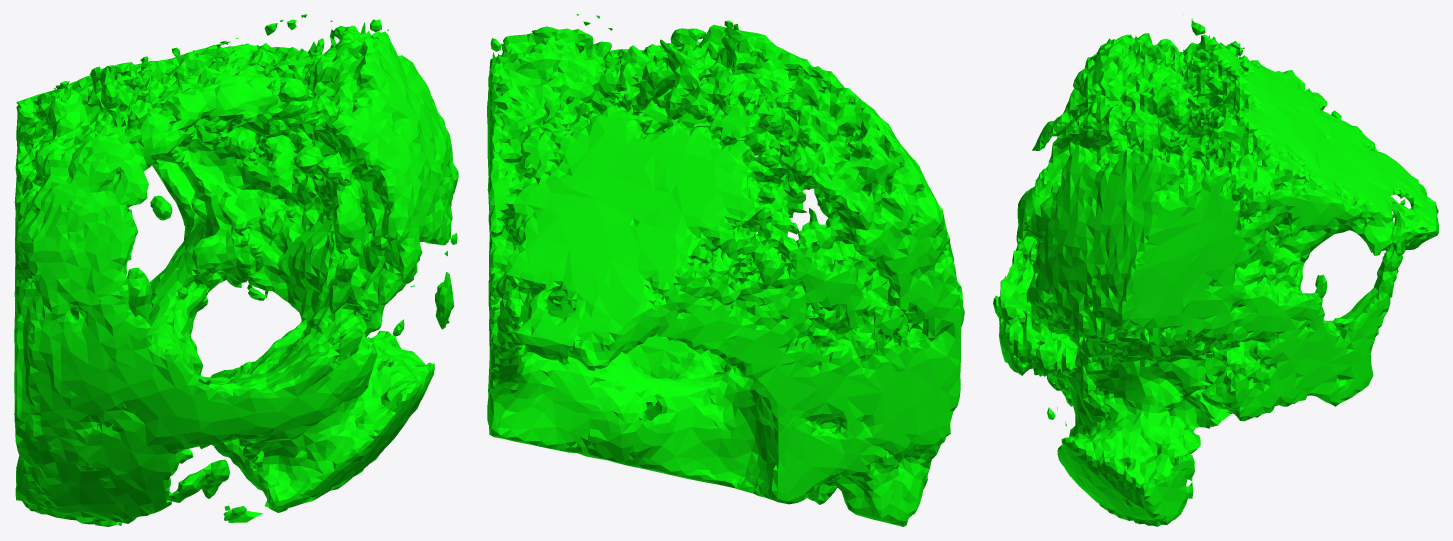
The model's file is B939XXXX-1_base_31.obj.
3 renders of one model, left to right at view 1: azimuth 30°, elevation 25°; view 2: azimuth 150°, elevation 25°; view 3: azimuth 270°, elevation 25°, orthographic. The views are drawn at different scales.
Parts seen in each view (by area): view 1: 31_base; view 2: 31_base; view 3: 31_base.
Boxes of the visible parts, box(x1,y1,x2,y2) form: 31_base: box(14, 14, 458, 526); 31_base: box(487, 14, 964, 526); 31_base: box(993, 14, 1438, 526).
Bounding box in the file's own units: 218 × 214 × 205.
